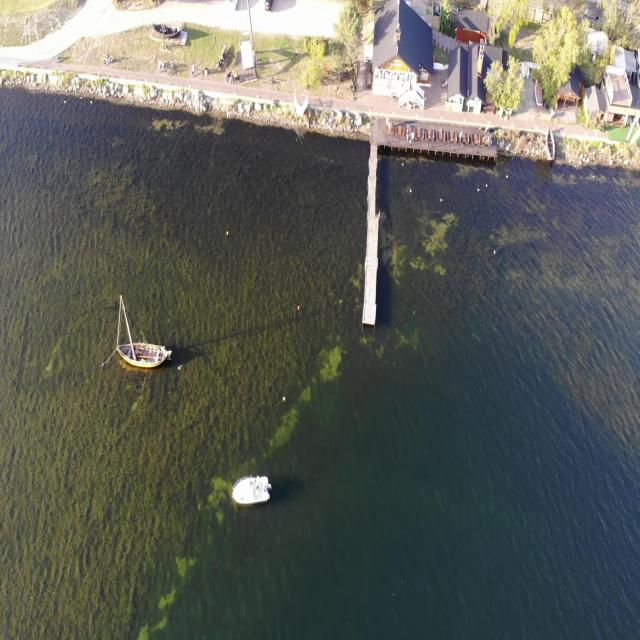boat: (230, 469, 274, 511)
bouy: (226, 230, 230, 237), (282, 395, 286, 402), (297, 303, 300, 312)
sailboat: (116, 292, 172, 369)
